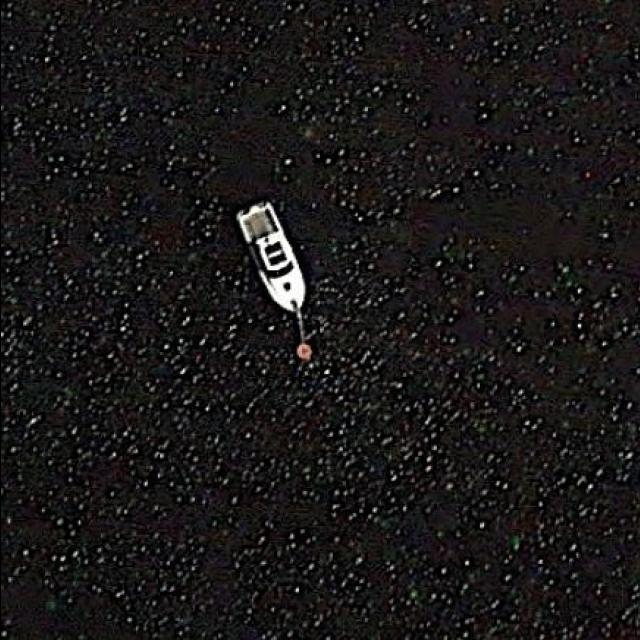ship: (235, 199, 307, 317)
